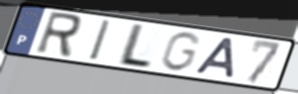7: (249, 38, 284, 85)
A: (192, 36, 236, 80)
G: (158, 30, 203, 73)
I: (87, 18, 114, 63)
L: (114, 22, 156, 70)
R: (32, 10, 85, 60)
